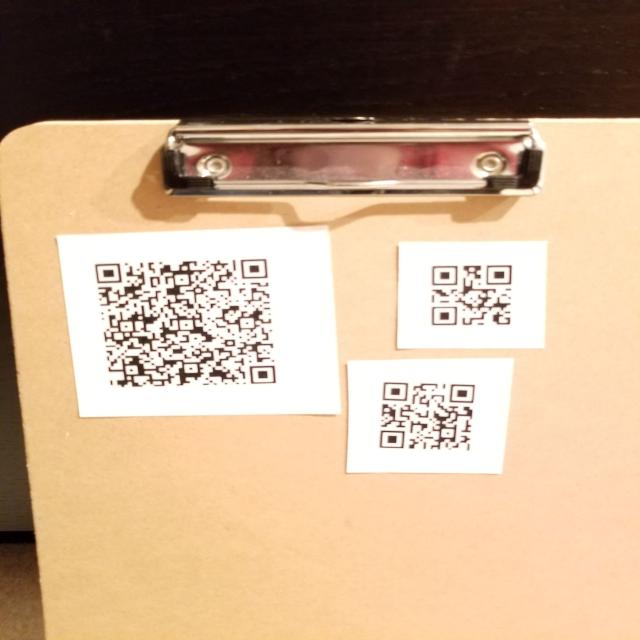QRCode: (87, 247, 288, 405), (368, 376, 485, 461), (420, 253, 530, 341)
